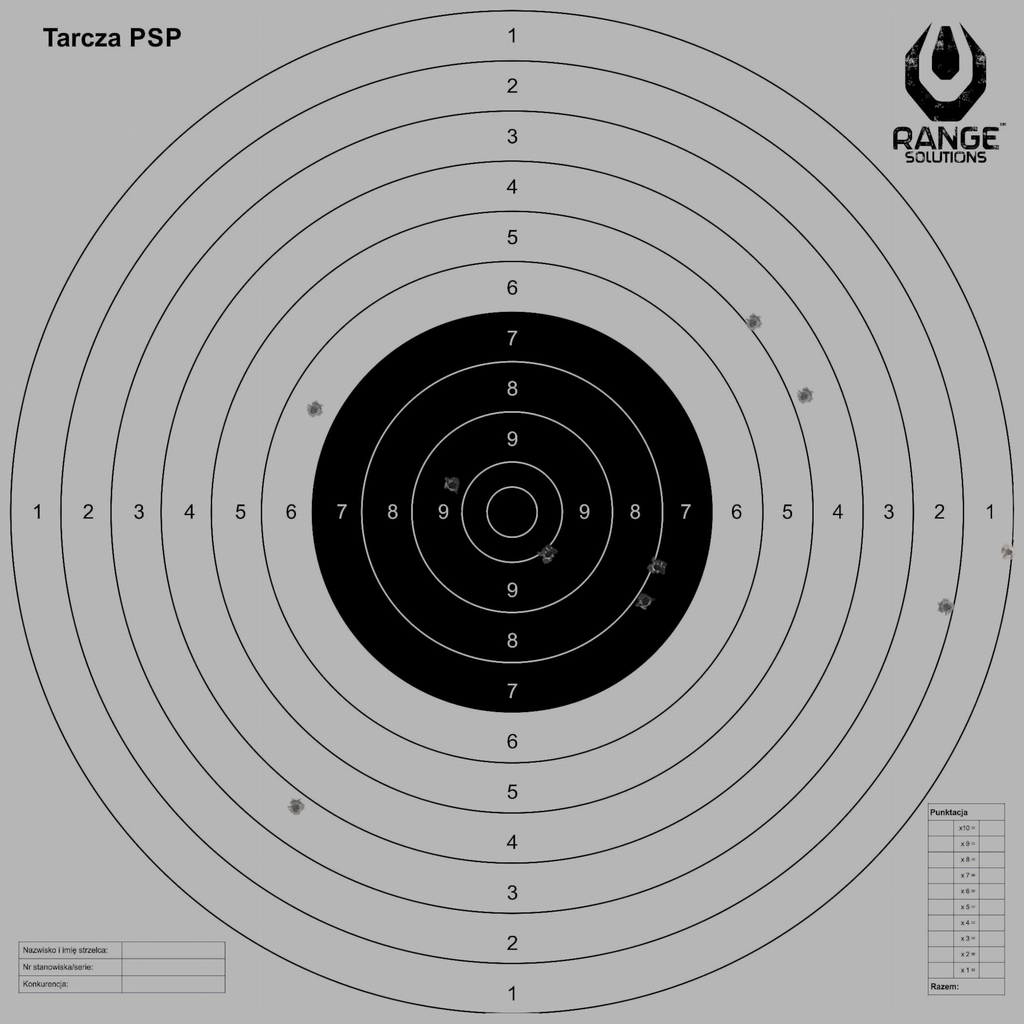0 punktow: (132, 0, 150, 10)
1 punkt: (999, 543, 1018, 561)
10 punktow: (539, 545, 558, 563)
2 punkty: (937, 598, 956, 616)
3 punkty: (287, 798, 305, 817)
4 punkty: (795, 387, 814, 405)
5 punktow: (744, 314, 762, 332)
6 punktow: (305, 401, 324, 419)
7 punktow: (636, 592, 654, 611)
8 punktow: (648, 558, 667, 576)
9 punktow: (443, 476, 461, 494)
